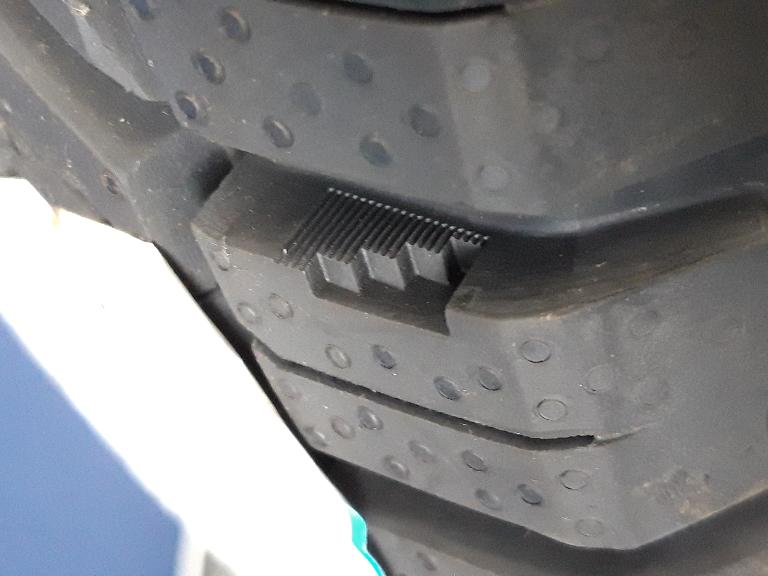temoin:100: (266, 179, 498, 349)
